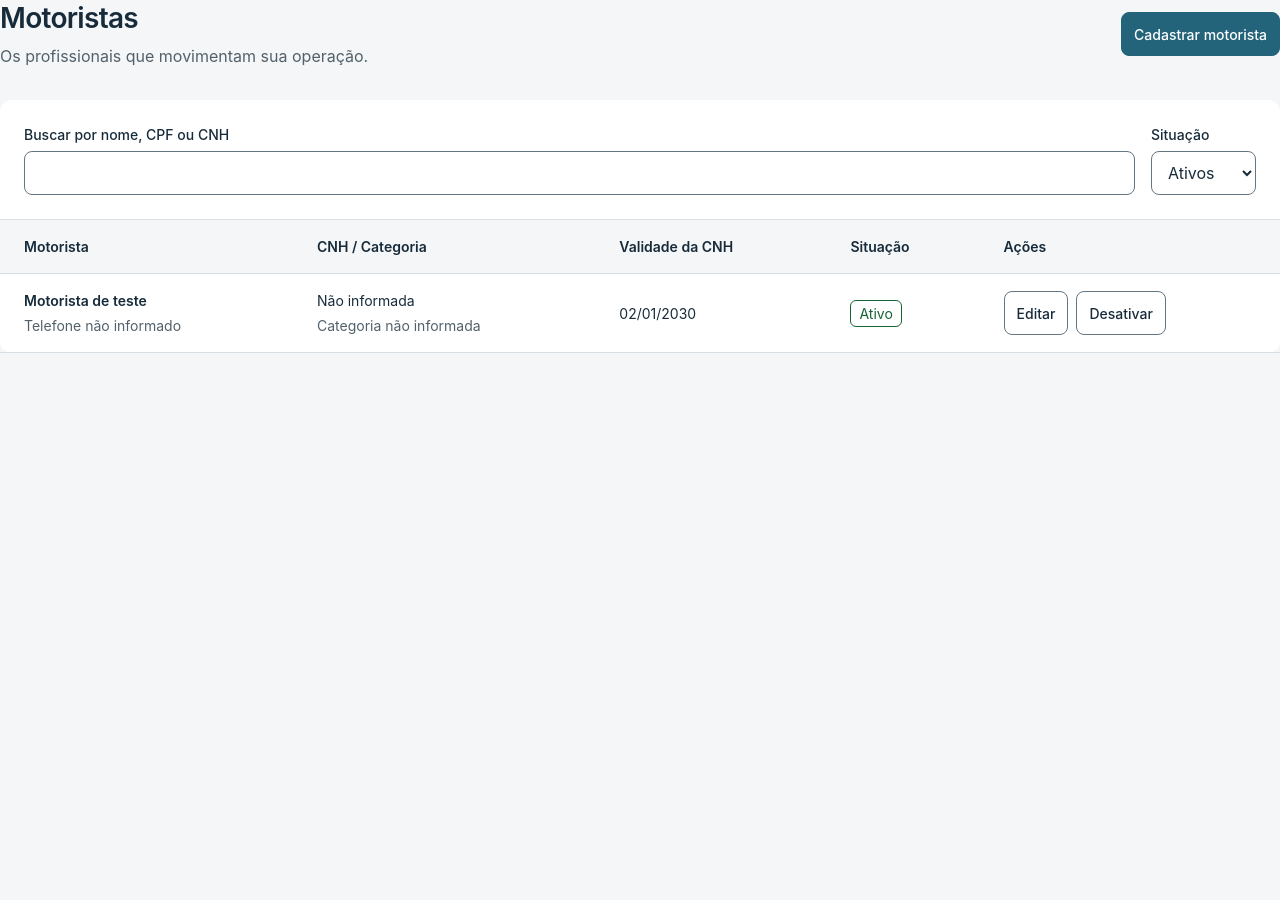
so desativa apos confirmacao e permite cancelar
The width and height of the screenshot is (1280, 900).
Click the button with aria-label "Desativar Motorista de teste" at coordinates (1121, 313), box [1076, 291, 1166, 335]
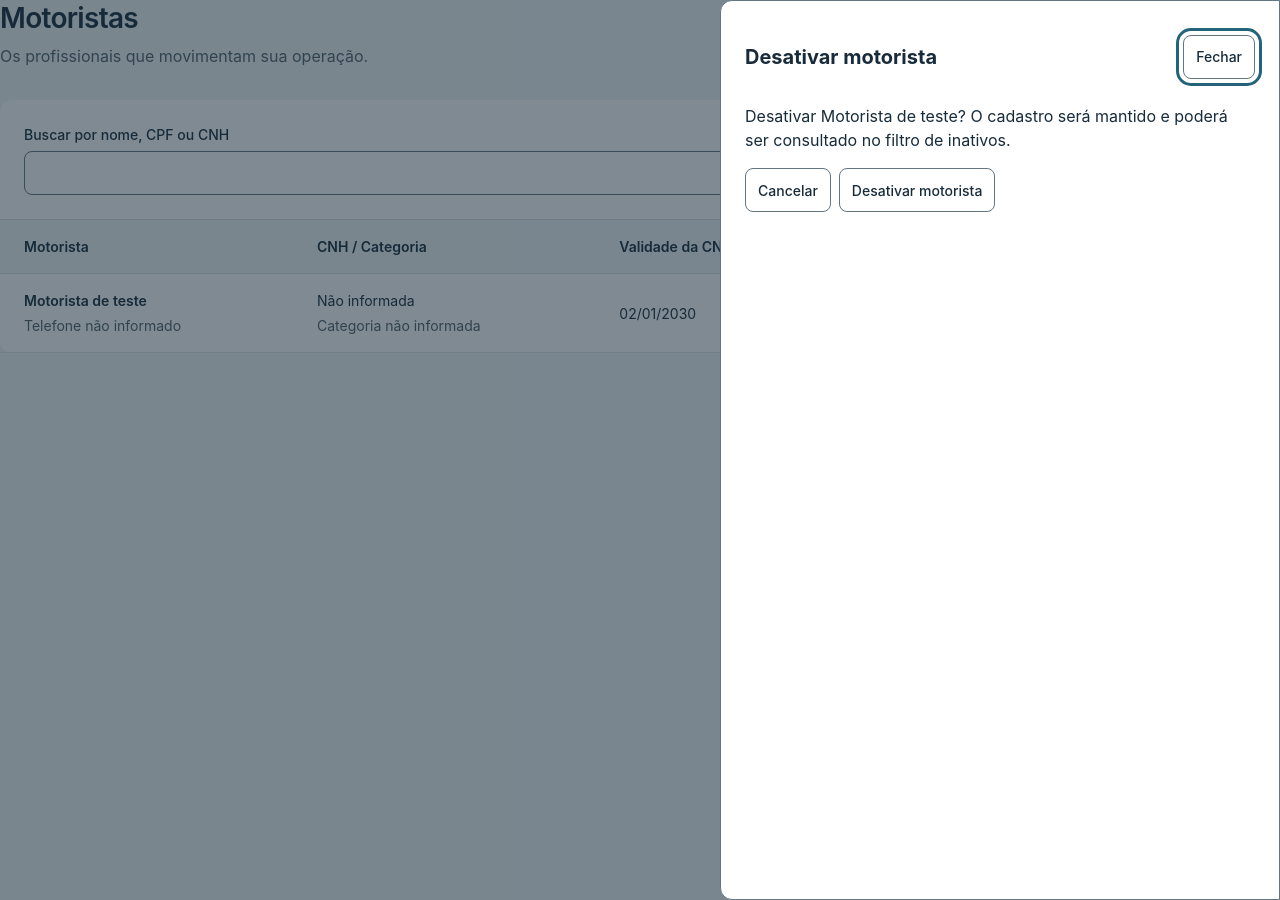
Click the button "Cancelar" at coordinates (788, 190), box [745, 168, 831, 212]
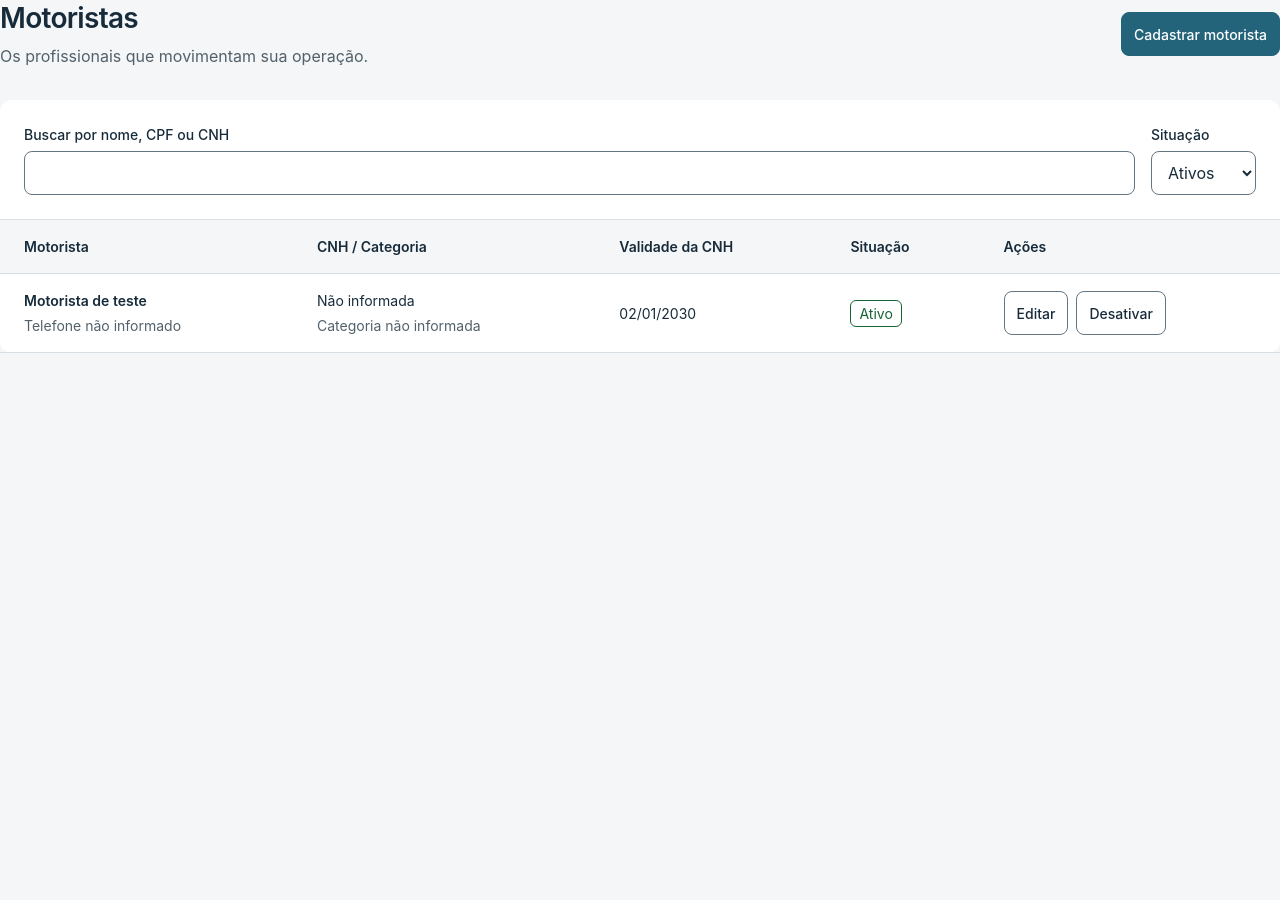
Expected: the dialog is gone
Click the button with aria-label "Desativar Motorista de teste" at coordinates (1121, 313), box [1076, 291, 1166, 335]
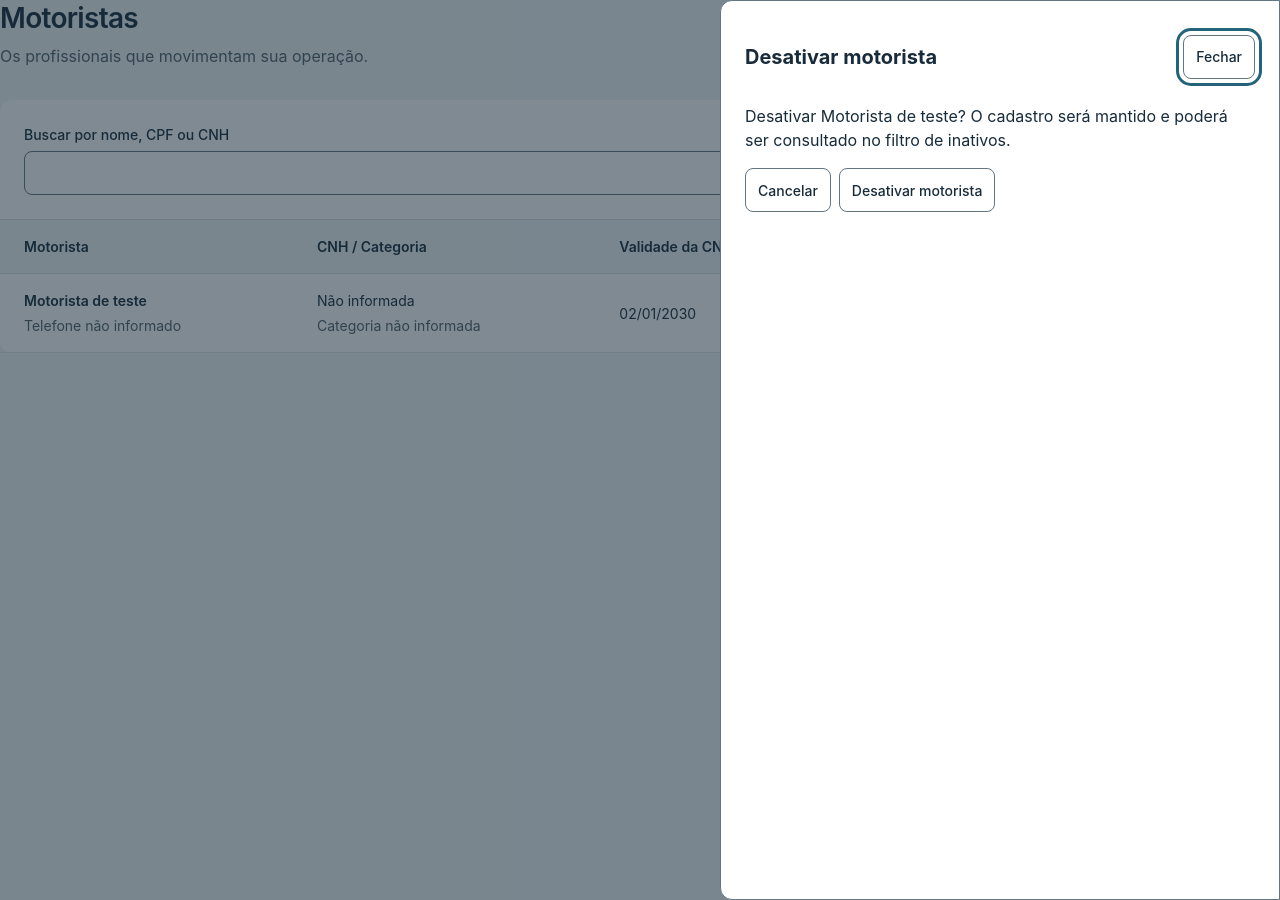
Click the button "Desativar motorista" at coordinates (917, 190), box [839, 168, 995, 212]
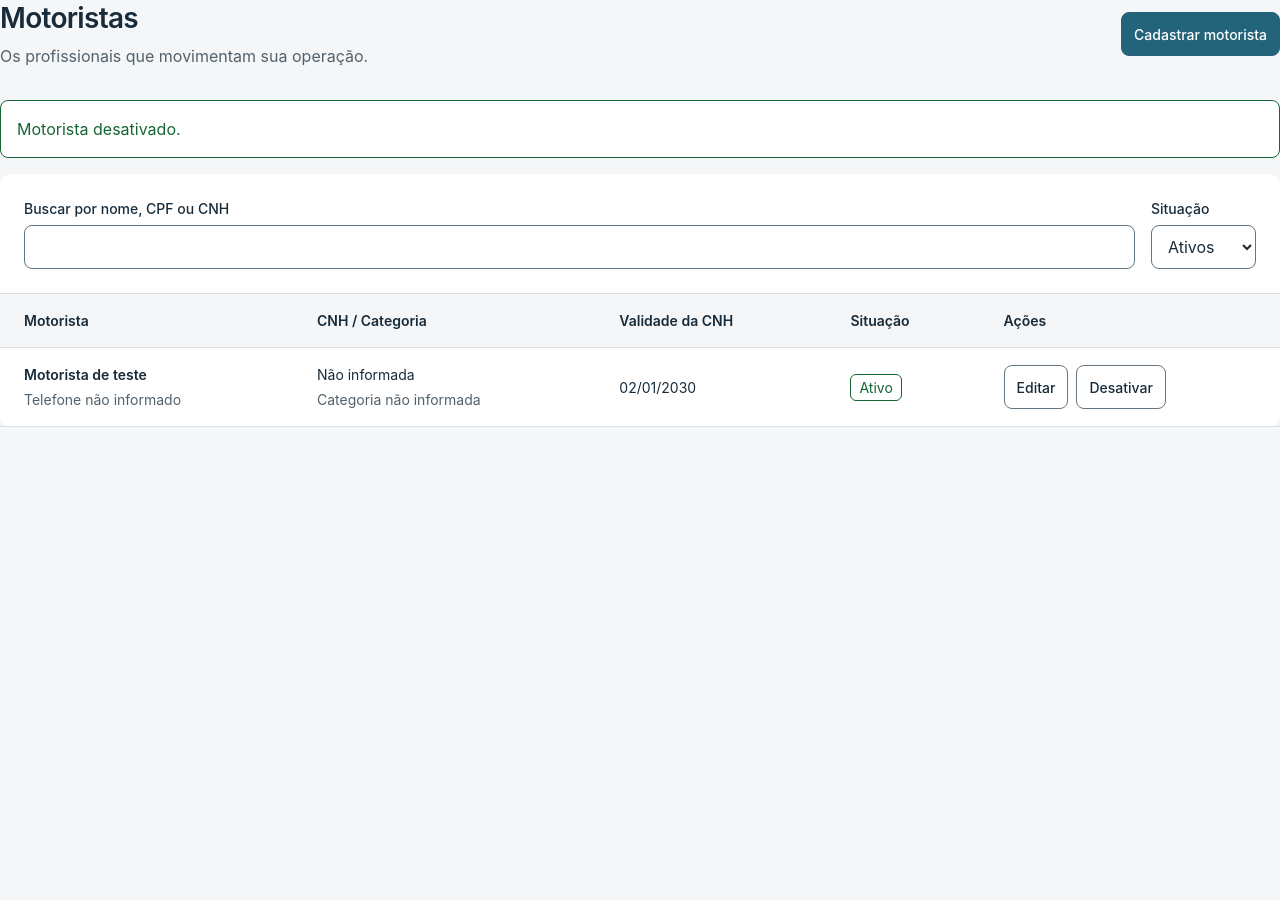
Expected: the text "Motorista desativado." is shown, [0, 100, 1279, 158]
